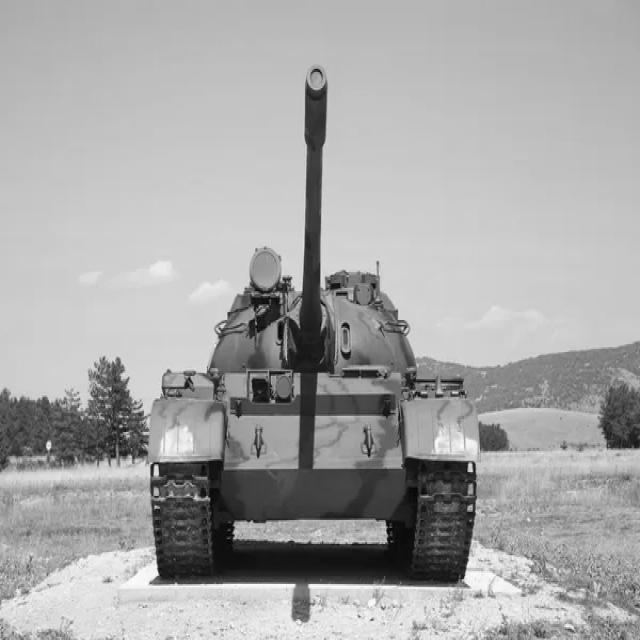Tank: (144, 60, 485, 579)
